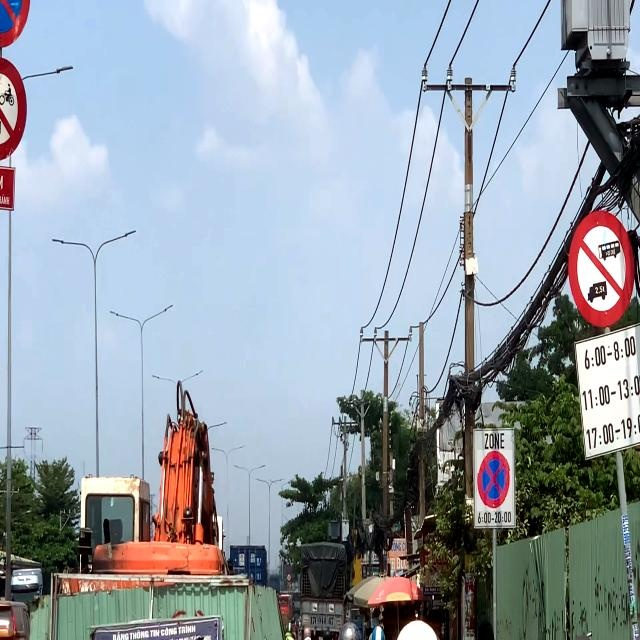bien_cam: (477, 450, 512, 511)
